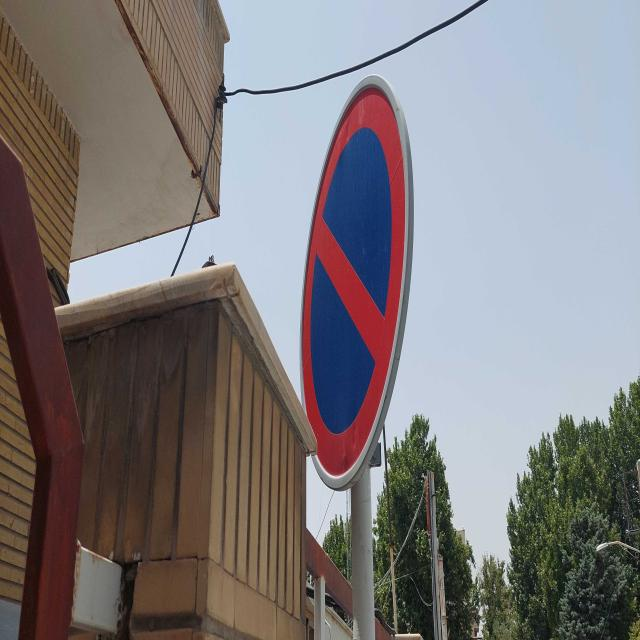forb_stopping: (298, 74, 414, 492)
